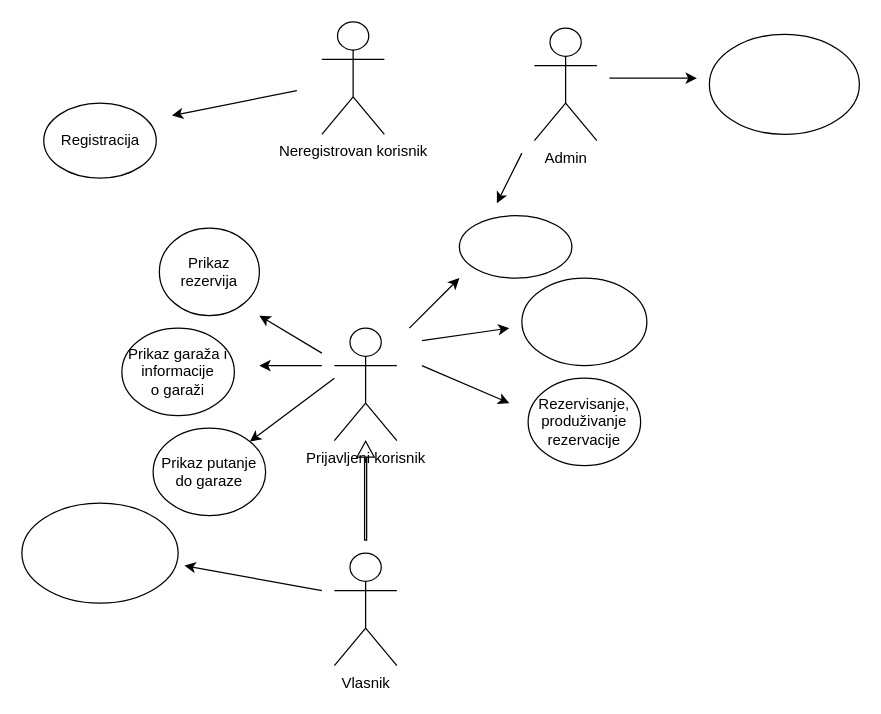
This 881x714 diagram has some shape labels left out. Here are the shapes that lost their labels. From the top down, the centre of each, then its label:
At point (783, 83): "Prikaz garaže, verifikovanje i odbijanje".
At point (515, 246): "Prijavljivanje".
At point (584, 321): "Filtriranje i pretraga garaža".
At point (99, 552): "Unos,prikaz i ažuriranje osnovnih podataka o garaži".
